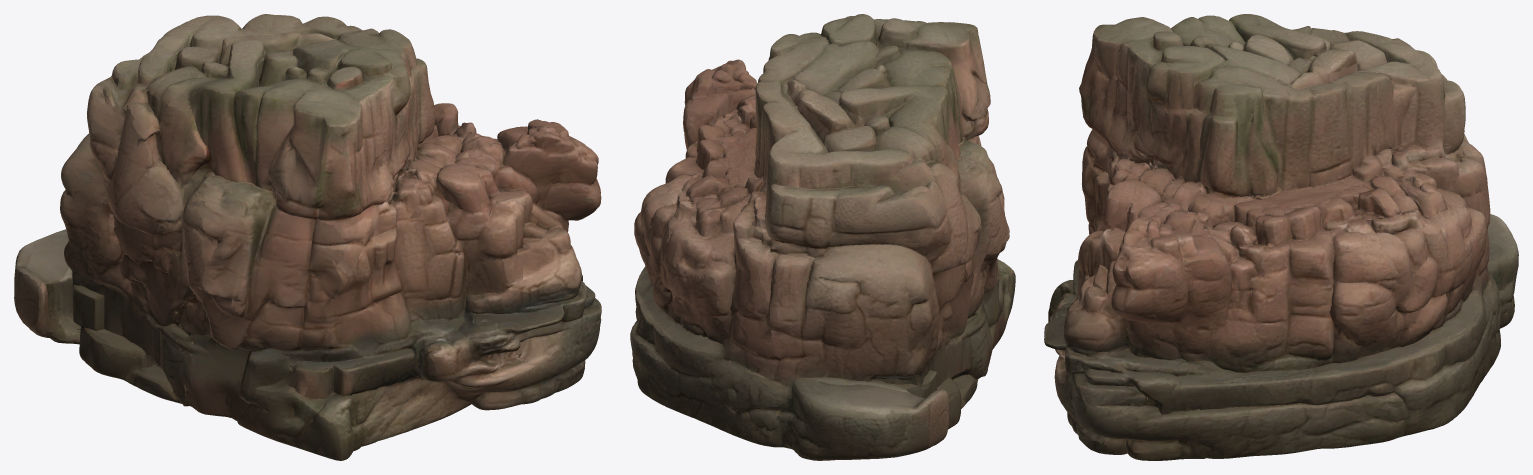
Rendered from eroded-granite-v10.glb.
3 views of the same model, side by side, from view 1: azimuth 30°, elevation 25°; view 2: azimuth 150°, elevation 25°; view 3: azimuth 270°, elevation 25° (orthographic). The views are drawn at different scales.
Visible parts, largest first — view 1: geometry_0; view 2: geometry_0; view 3: geometry_0.
Boxes of the visible parts, left/top/right/bottom form: geometry_0: left=14, top=14, right=601, bottom=460; geometry_0: left=630, top=14, right=1015, bottom=460; geometry_0: left=1044, top=14, right=1518, bottom=460.
Size of the model in its own units: 1.2 by 0.9101 by 1.2.
1 material, 1 textured.
